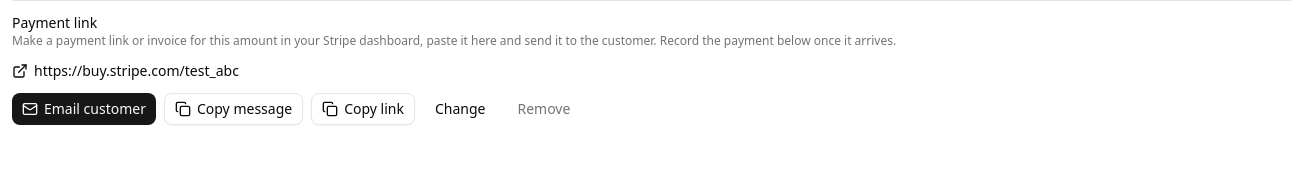
OrderPaymentLink › shows why a send failed
What coordinates should you click on to do the following:
click the button "Email customer"
I would click on:
 (84, 109)
Its box is [12,93,156,125].
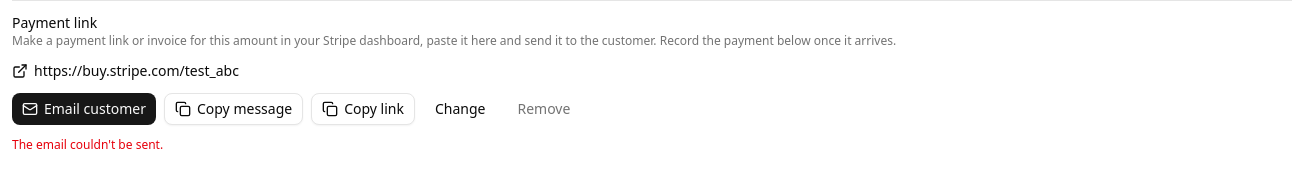
Expected: the message shows "couldn't be sent", [12,136,163,153]
